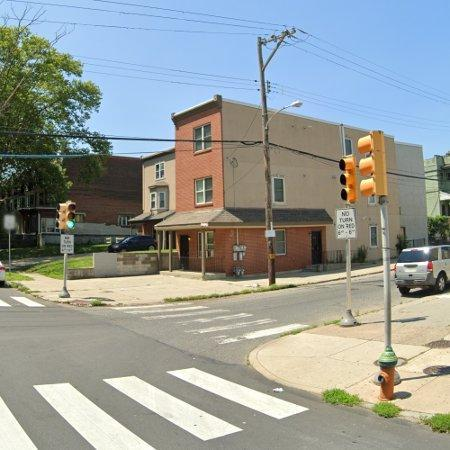crosswalks: (1, 358, 327, 450), (109, 305, 309, 348)
